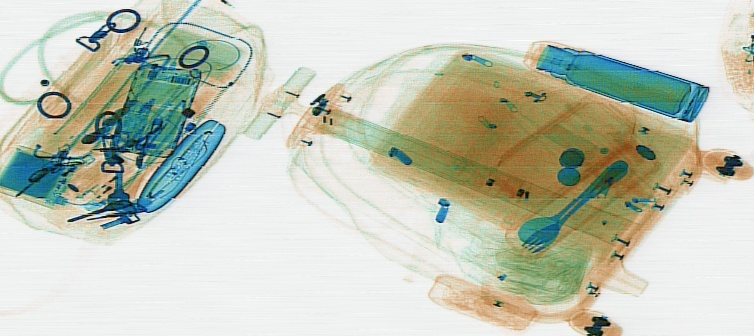lighter: (80, 156, 145, 212)
